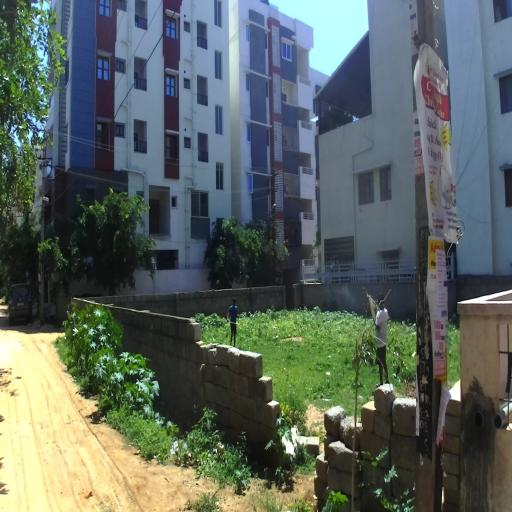street_light_0: (41, 196, 49, 219)
